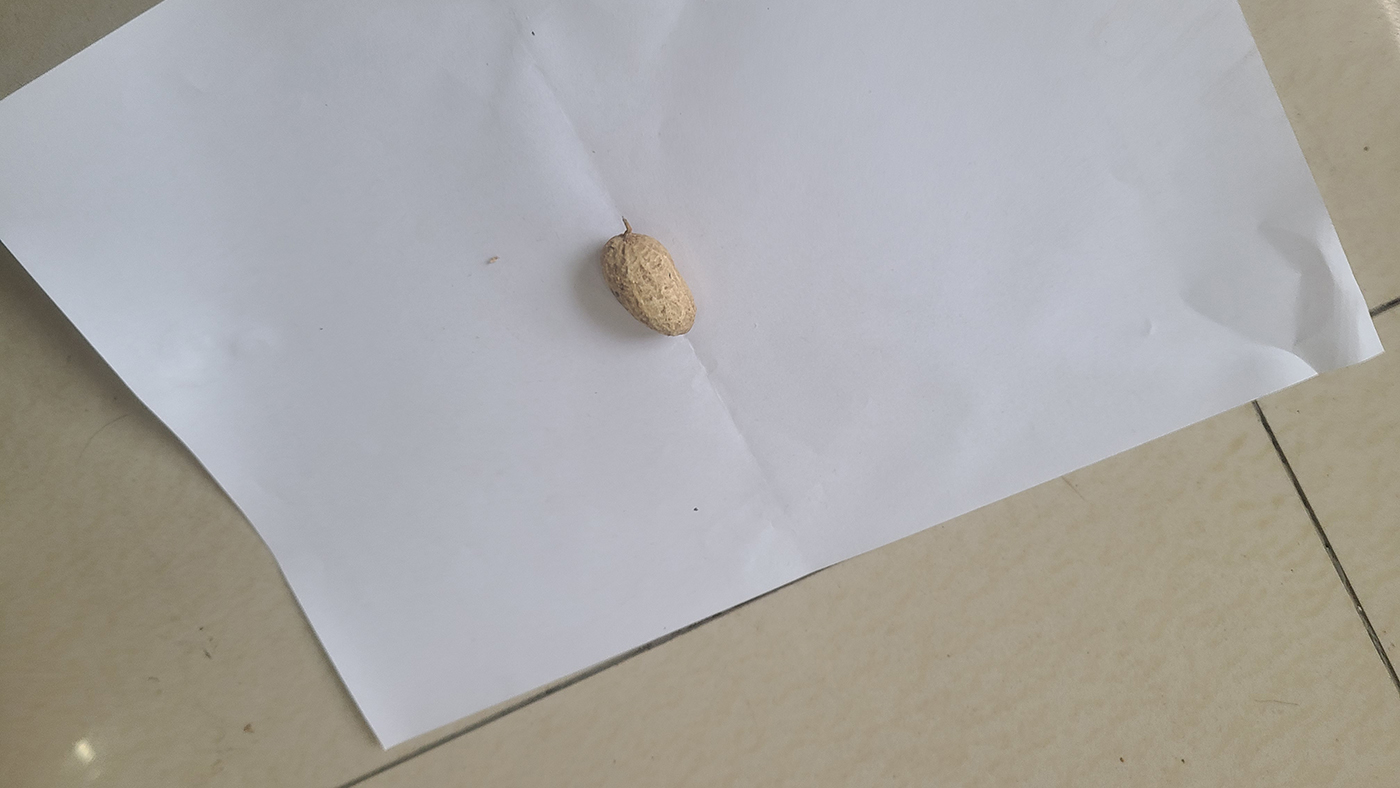h: (600, 232, 698, 337)
